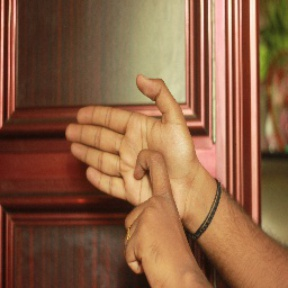R: (67, 71, 202, 260)
